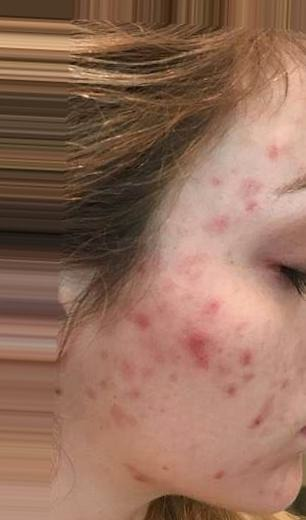Acne: (90, 145, 281, 453)
